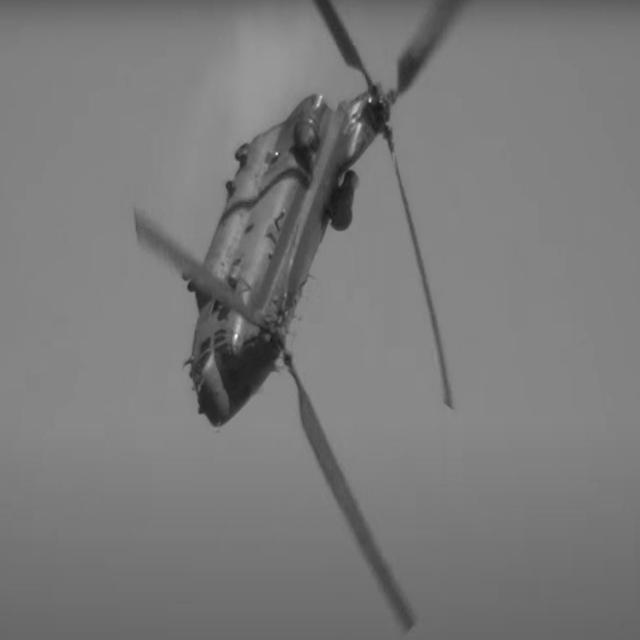Helicopter: (135, 0, 461, 631)
